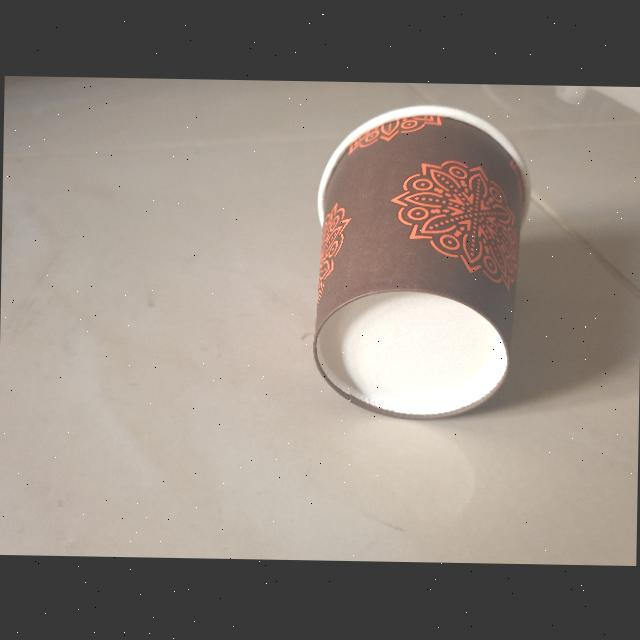trash: (304, 95, 530, 422)
